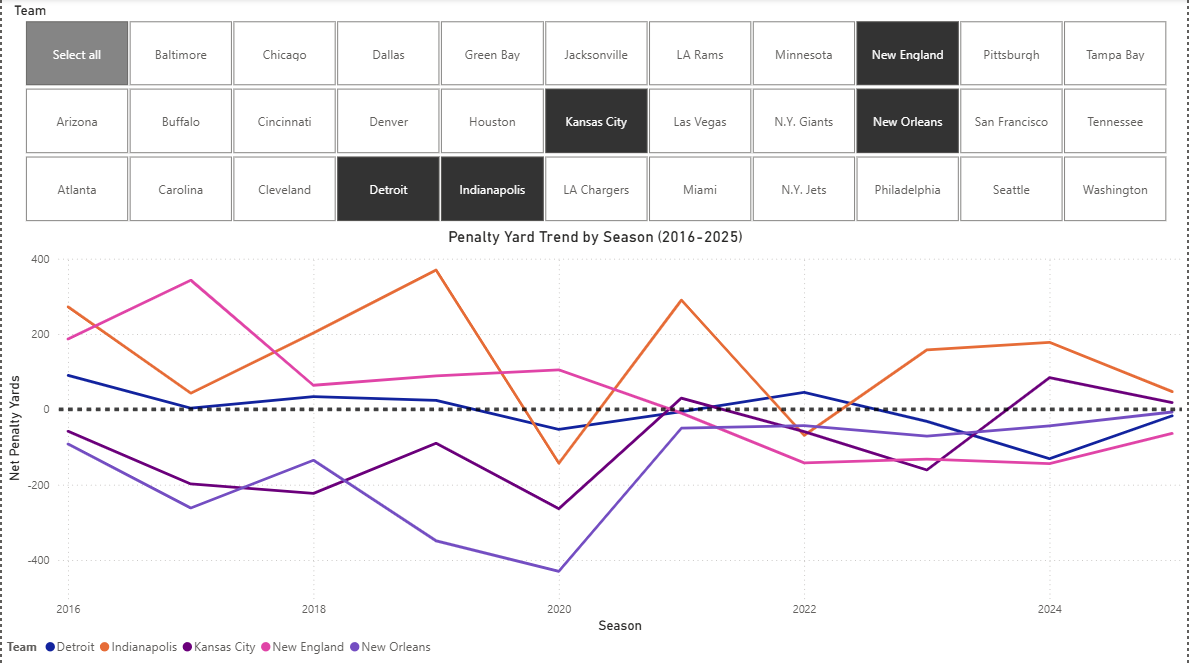

This screenshot's page, from the dashboard's own definition file:
{"tool":"powerbi","page":{"name":"Season-by-season Trend","canvas":[1280,720],"ordinal":1},"visuals":[{"type":"lineChart","title":"Penalty Yard Trend by Season (2016-2025)","fields":{"Category":["query2_season_trend.Season"],"Y":["Sum(query2_season_trend.Net Yards)"],"Series":["query2_season_trend.Team"]},"box":[0,247.4,1280.9,471.6],"z":0},{"type":"slicer","fields":{"Values":["query2_season_trend.Team"]},"box":[0,0,1280.9,247.4],"z":1000}]}

Visuals, with their boxes in screenshot pixels (x1, y1, x2, y2), scaled from the page's 1280x720 canvas onto the 1189x664 screenshot:
"Penalty Yard Trend by Season (2016-2025)" lineChart: [0,228,1188,663]
slicer - query2_season_trend.Team: [0,0,1188,228]
